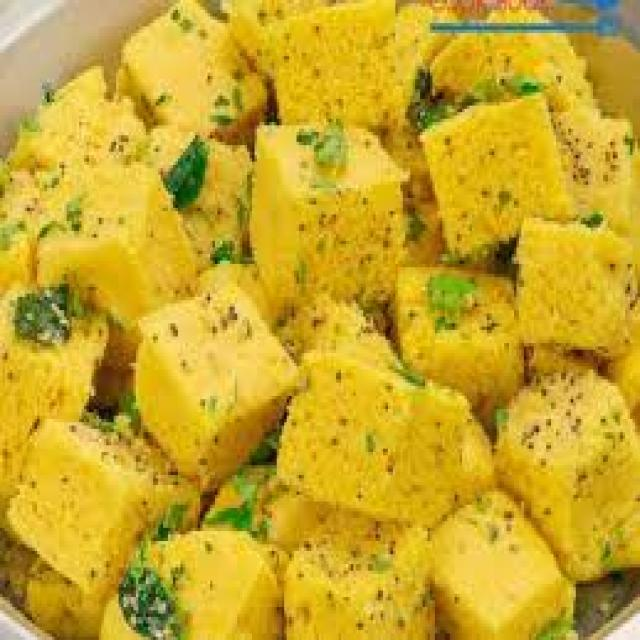DHOKLA: (1, 0, 638, 637)
